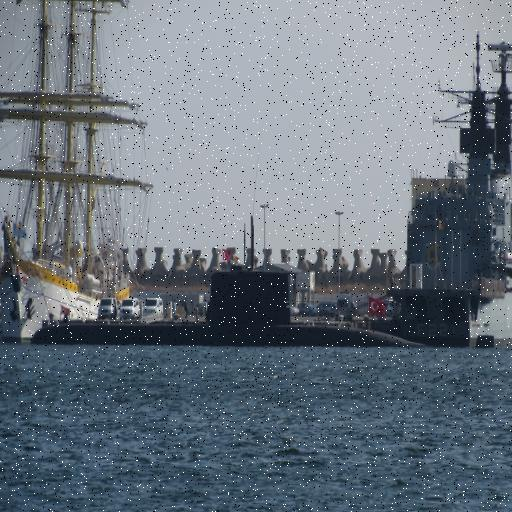submarine: (34, 270, 435, 348), (342, 291, 497, 345)
